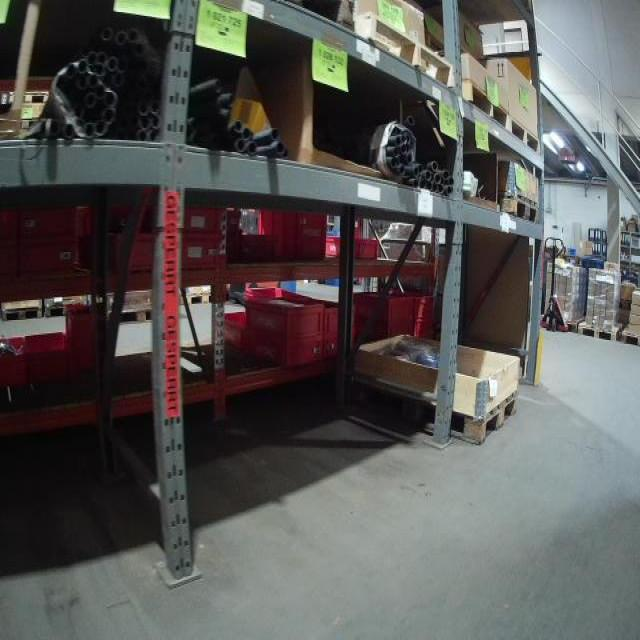pallet: (326, 13, 460, 91), (354, 383, 522, 442), (455, 75, 510, 136), (493, 195, 540, 226), (510, 113, 543, 157), (576, 321, 624, 341), (621, 323, 640, 347)
pallet_truck: (541, 234, 576, 335)
small_load_carrier: (107, 233, 224, 279), (255, 210, 331, 268), (240, 288, 324, 328), (18, 202, 94, 238), (252, 330, 325, 366), (28, 327, 76, 381), (16, 241, 88, 276), (67, 307, 103, 374), (324, 301, 359, 362), (350, 289, 418, 319), (209, 308, 248, 357), (159, 202, 226, 230), (228, 230, 271, 272), (323, 234, 382, 261), (359, 319, 417, 344), (2, 335, 27, 388), (406, 288, 439, 320), (411, 317, 440, 341)
